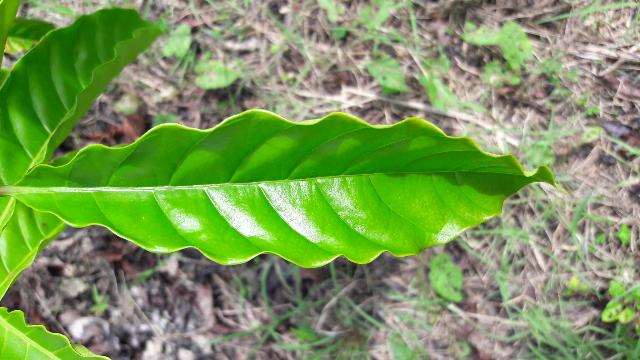healthy: (6, 111, 561, 271)
